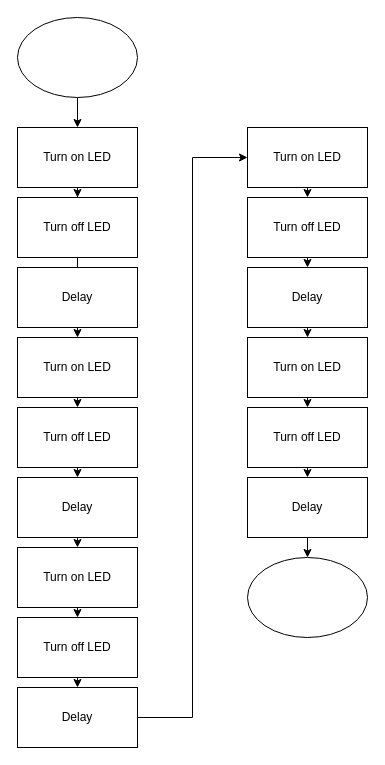
This 385x765 diagram has some shape labels left out. The shapes that lost their labels are listed below. From the top down, each one's centre as x and y in pixels, then its label:
At (x=77, y=57): "Start".
At (x=307, y=597): "Starts over again".
